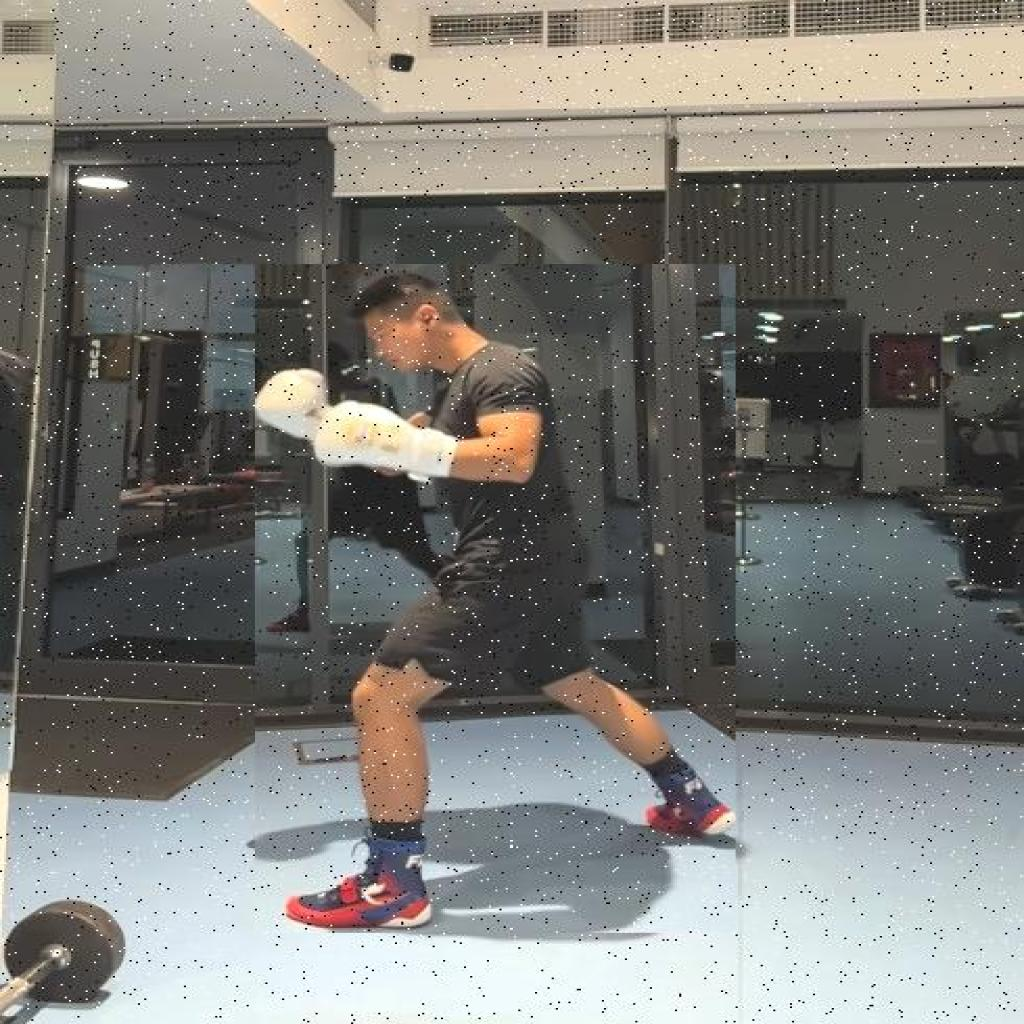no punch: (255, 264, 736, 933)
